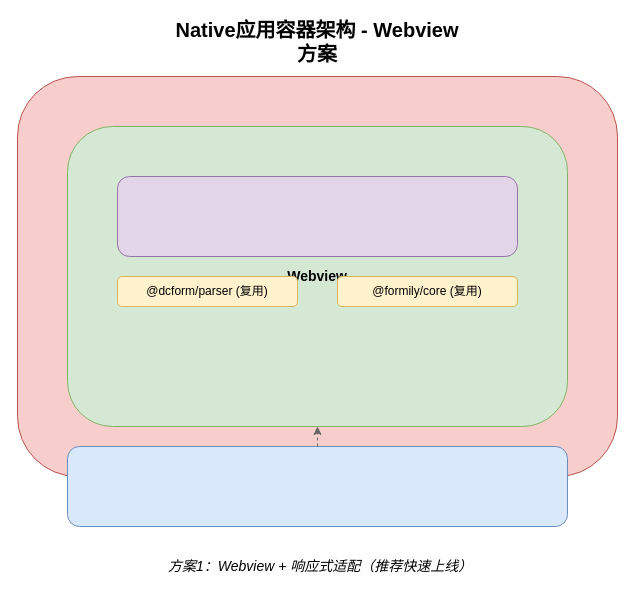
Image size: 635x593. Some labels were removed from this diagram. The shapes that lost their labels are listed below. From the top down, each one's centre as x and y in pixels, then its label:
At (317,216): "@dcform/ysd (Web) + 响应式适配层 + 移动端交互优化".
At (317,486): "Native Bridge (按需) - 文件上传 - 相机调用 - 本地存储".
